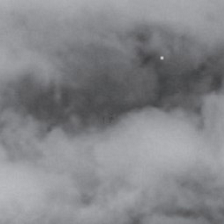Target: (158, 54, 166, 61)
